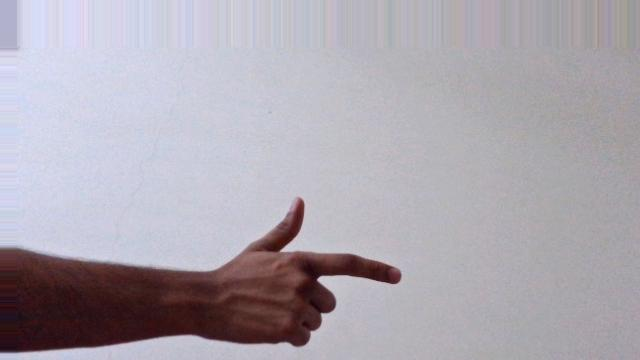Left: (212, 197, 405, 350)
